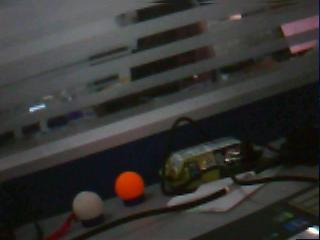oball: (115, 171, 142, 199)
